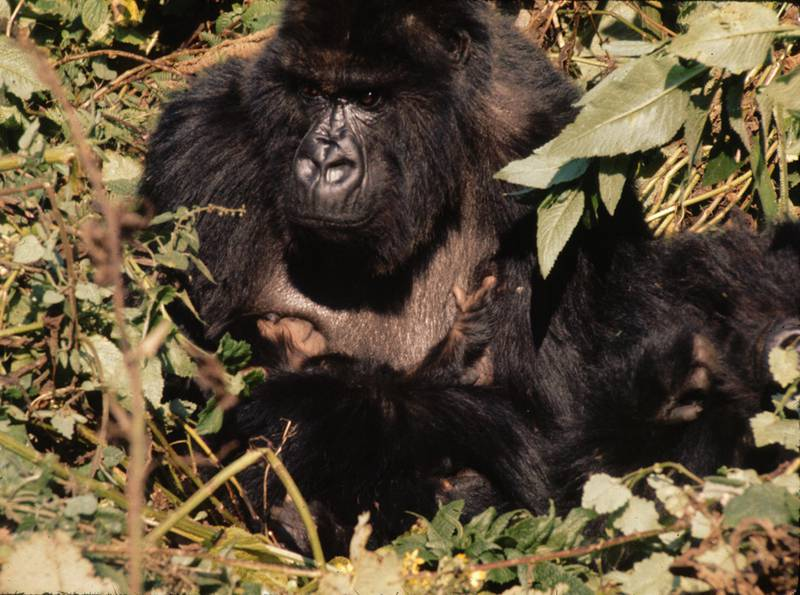Goriila: (188, 2, 745, 493)
